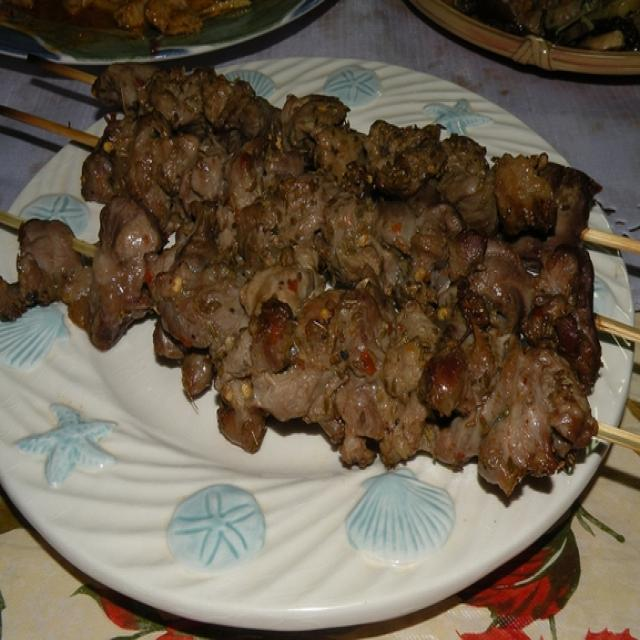烧串烤肉: (21, 27, 626, 604)
